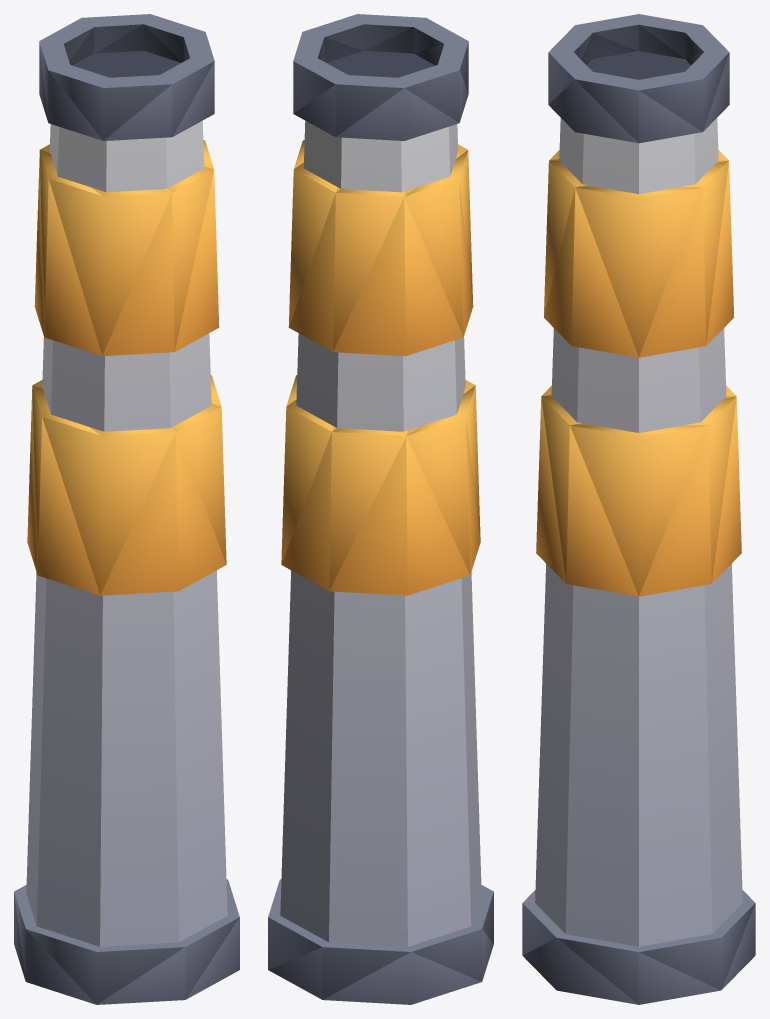
File: ki_chimney_medium.fbx
The picture shows the model from 3 angles, left to right: view 1: azimuth 30°, elevation 25°; view 2: azimuth 150°, elevation 25°; view 3: azimuth 270°, elevation 25°; orthographic projection.
Visible parts, largest first — view 1: ki_chimney_medium; view 2: ki_chimney_medium; view 3: ki_chimney_medium.
Part boxes in pixels (x1,y1,x2,y2): ki_chimney_medium: (14,14,239,1004); ki_chimney_medium: (268,14,493,1004); ki_chimney_medium: (522,14,755,1004).
Bounding box in the file's own units: 3.82 × 16.36 × 3.82.
1 material, 1 textured.
